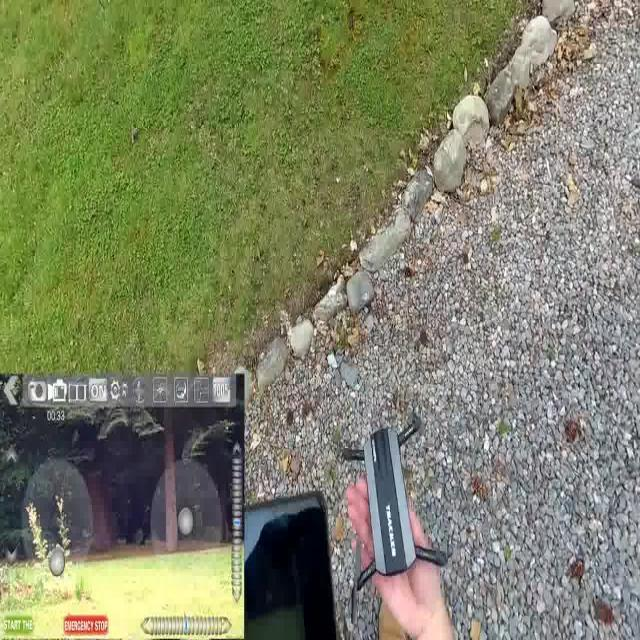drones: (322, 384, 467, 617)
